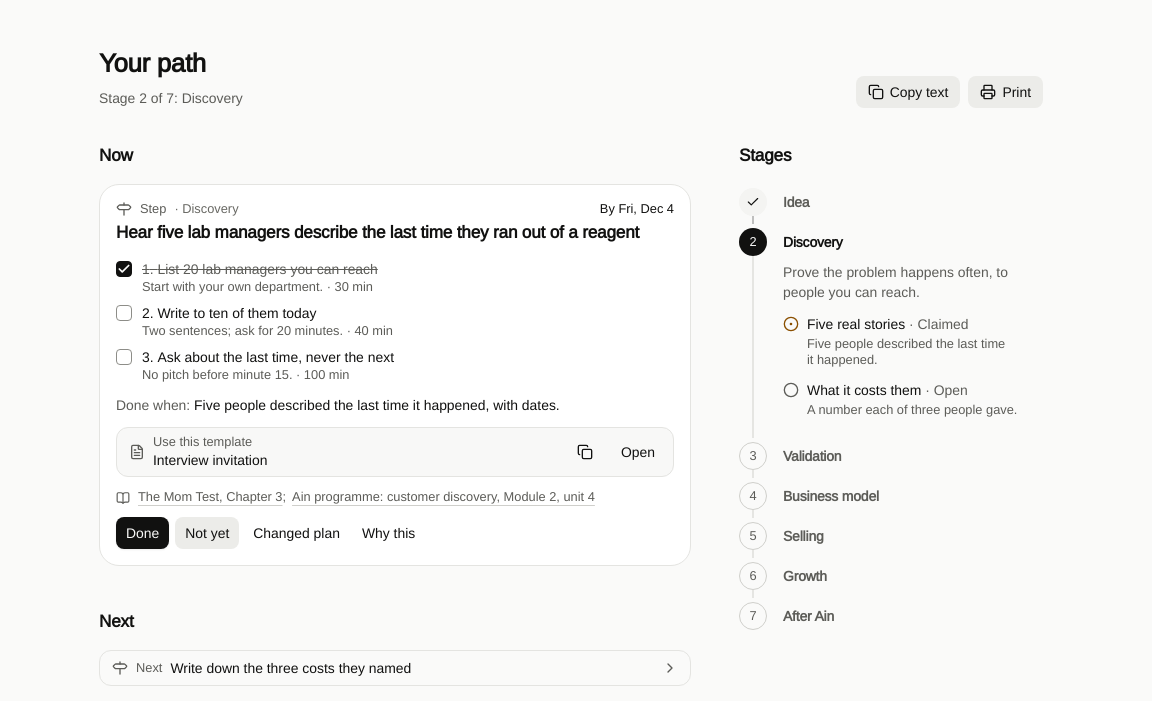
Test case: Your path › says where the venture is, and opens the current stage on what it asks for and what was reported
Expected: the heading "Your path" is shown, [99,48,206,80]
Expected: the list items read "Five real stories · ClaimedFive people described the last time it happened.", "What it costs them · OpenA number each of three people gave.", in this order, [783,314,1037,368]; [783,380,1037,418]
// A stage that is done opens on the evidence the founder gave.
Click the button "Idea".
click(802, 212)  # box [777,184,1043,220]
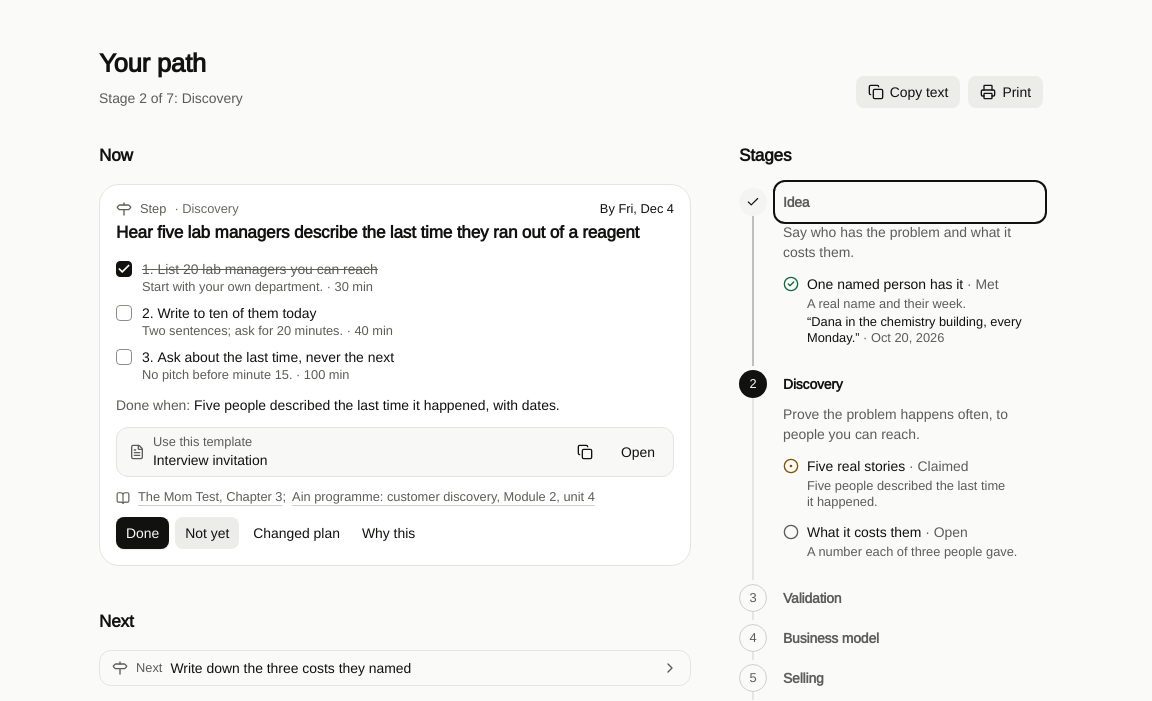
Expected: the text "Dana in the chemistry building" is shown, [807,314,1022,345]
